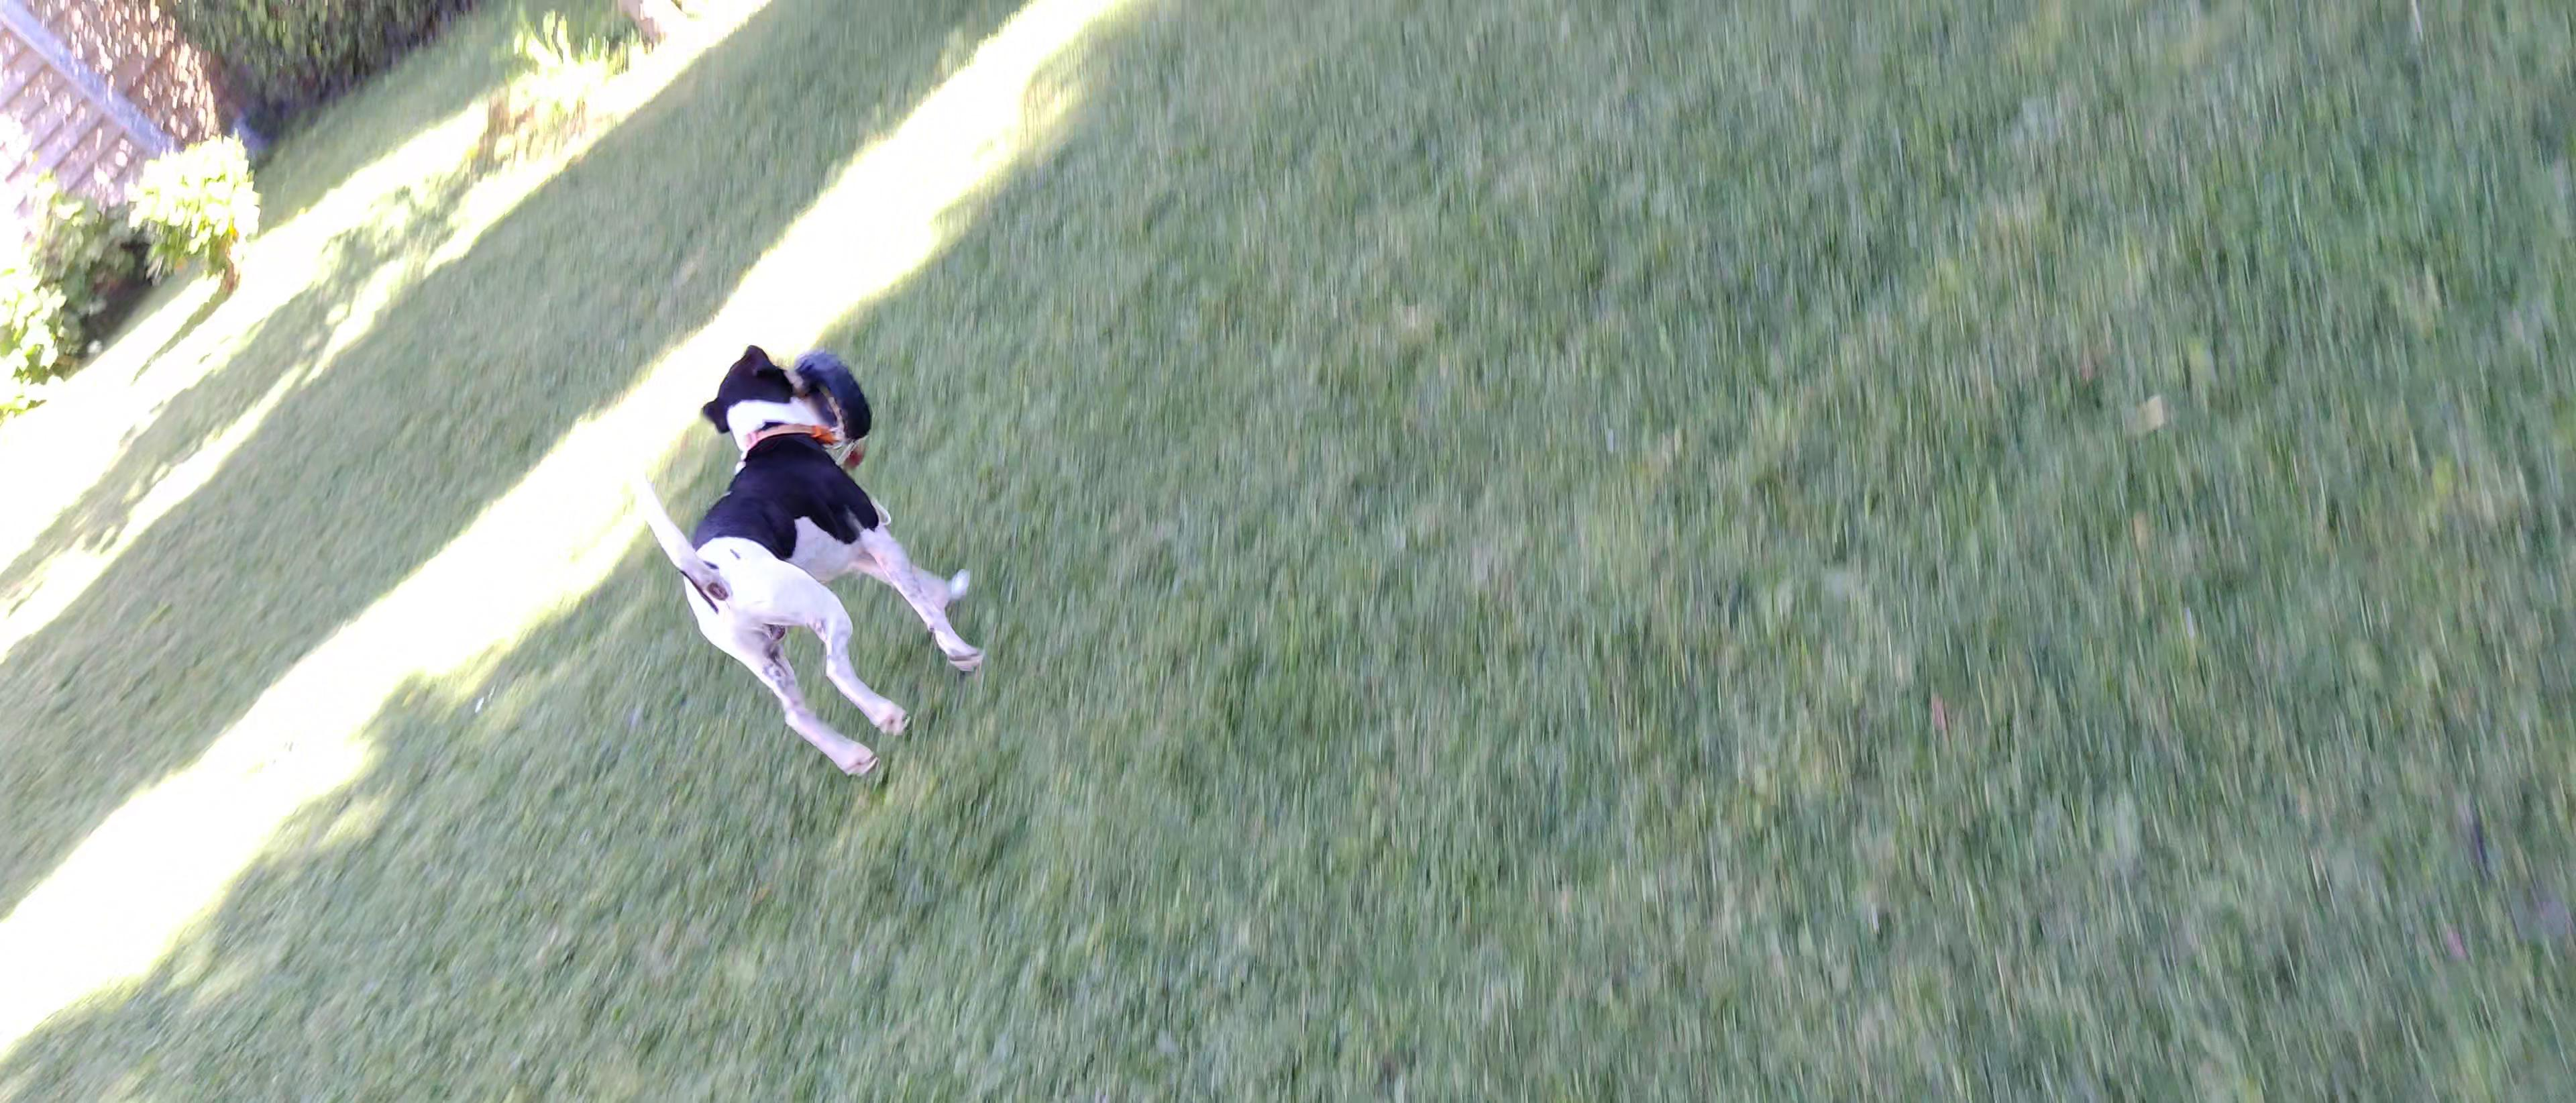Dog: (621, 342, 987, 776)
